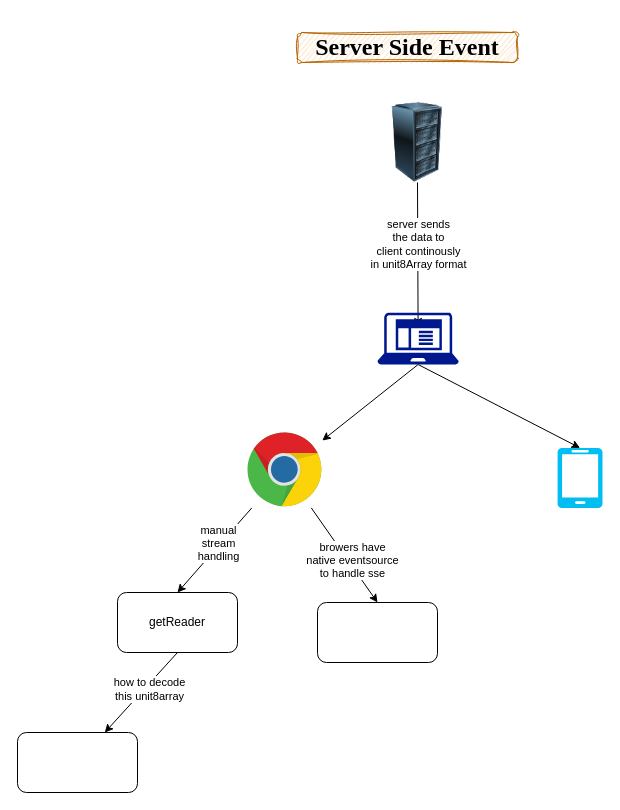
Image size: 620x810. Some labels were removed from this diagram. The box of each missing label's shape, as (x1, y1, x2, y2) in pixels:
eventSource constructor: (316, 602, 438, 662)
TextDecoder constructor: (16, 732, 138, 792)
